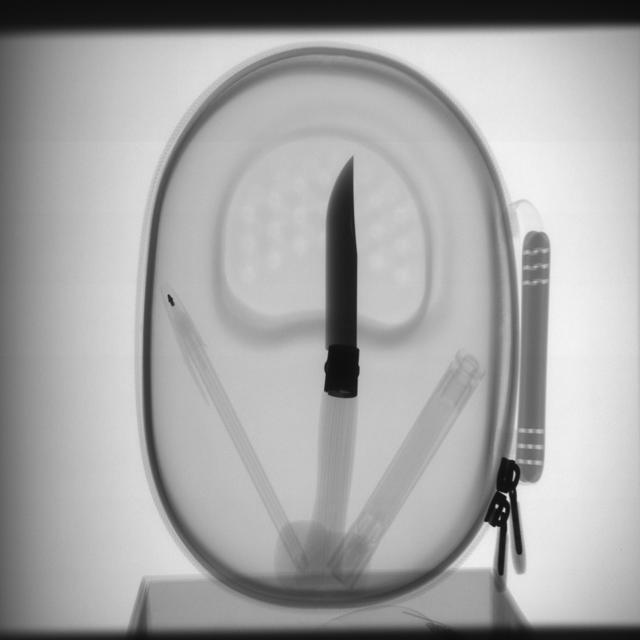knife: (321, 147, 371, 402)
